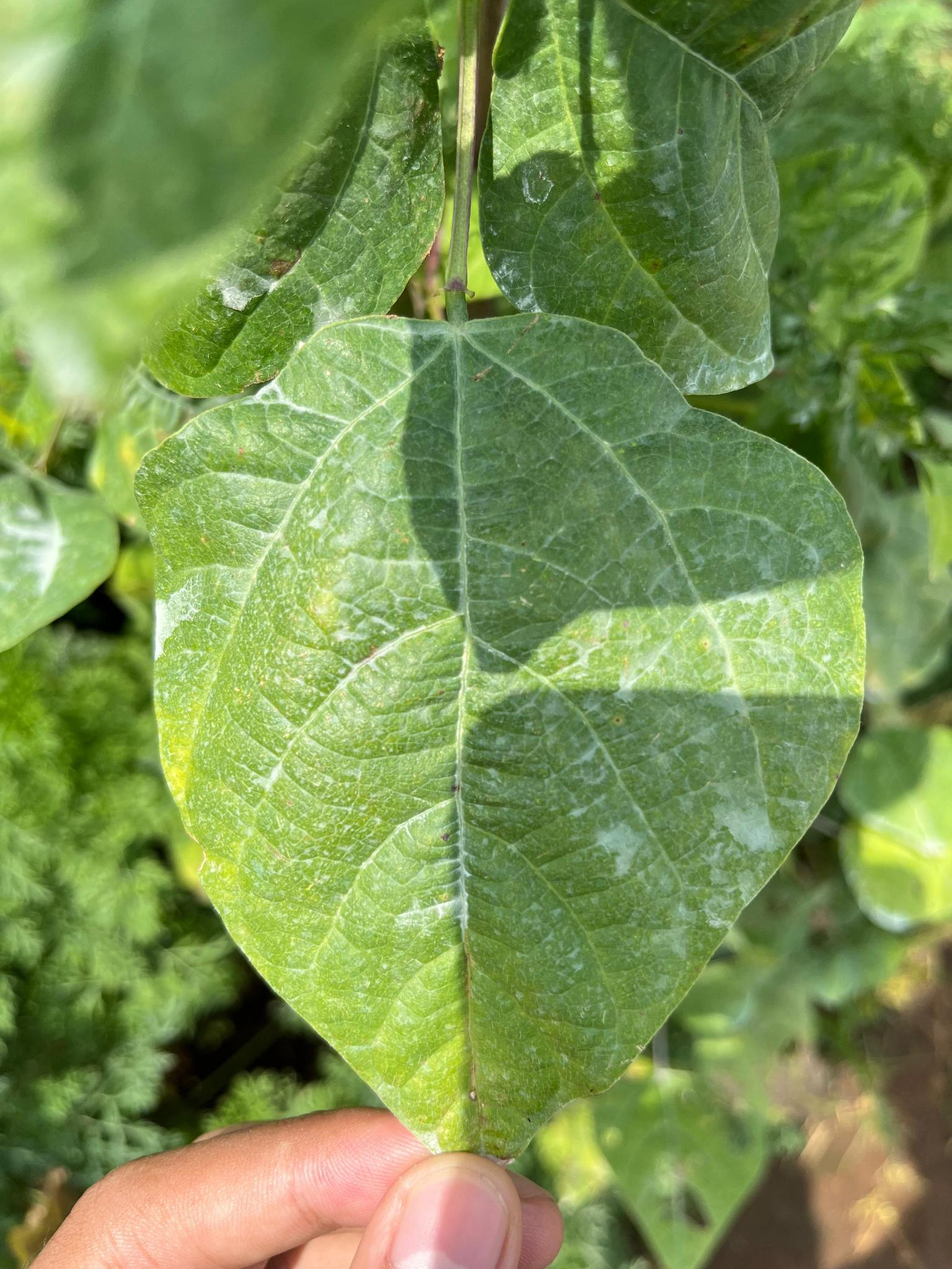embun tepung: (557, 690, 842, 984), (189, 265, 416, 513), (371, 826, 518, 992), (116, 542, 241, 669)
